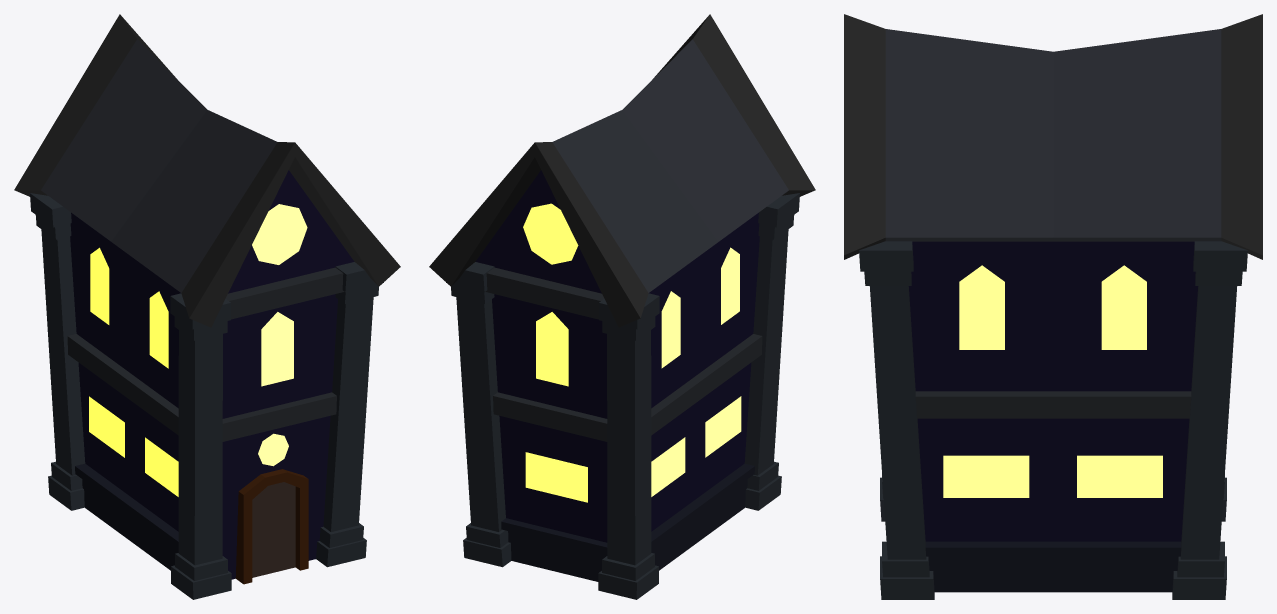
Rendered from Casa1.fbx.
3 renders of one model, left to right at view 1: azimuth 30°, elevation 25°; view 2: azimuth 150°, elevation 25°; view 3: azimuth 270°, elevation 25°, orthographic. The views are drawn at different scales.
Parts seen in each view (by area): view 1: Teto01, Parede01, Pilar01, JanelaFundo01, Divisao01, Base01, Porta01, PortaContorno01; view 2: Teto01, Parede01, Pilar01, JanelaFundo01, Divisao01, Base01; view 3: Teto01, Parede01, Pilar01, JanelaFundo01, Base01, Divisao01.
Part boxes in pixels (x1,y1,x2,y2): Teto01: (14,14,400,327); Parede01: (70,170,354,579); Pilar01: (30,193,383,599); JanelaFundo01: (89,204,307,496); Divisao01: (67,267,344,441); Base01: (75,463,178,570); Porta01: (252,482,295,577); PortaContorno01: (235,469,308,584); Teto01: (429,14,815,327); Parede01: (475,170,759,542); Pilar01: (446,193,799,599); JanelaFundo01: (523,203,741,502); Divisao01: (485,267,762,441); Base01: (501,463,754,581); Teto01: (844,14,1262,259); Parede01: (908,241,1198,541); Pilar01: (859,241,1247,599); JanelaFundo01: (943,265,1162,497); Base01: (925,541,1181,592); Divisao01: (915,391,1191,418).
Bounding box in the file's own units: 412 × 834 × 591.
